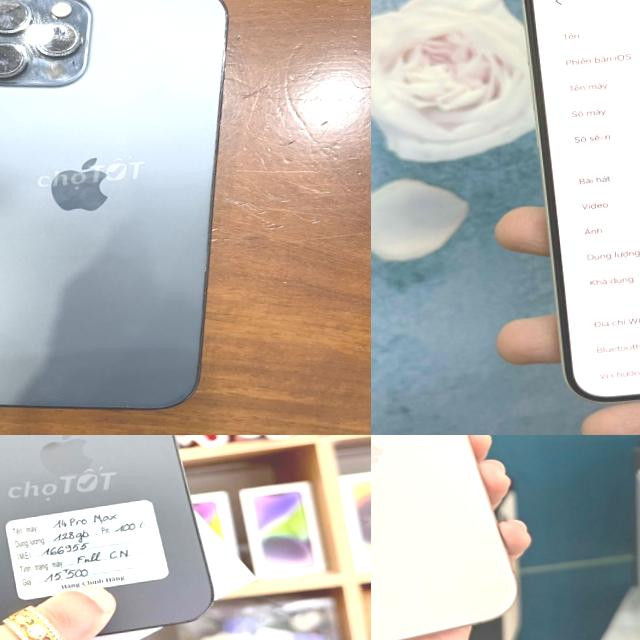scratch: (0, 0, 96, 100)
